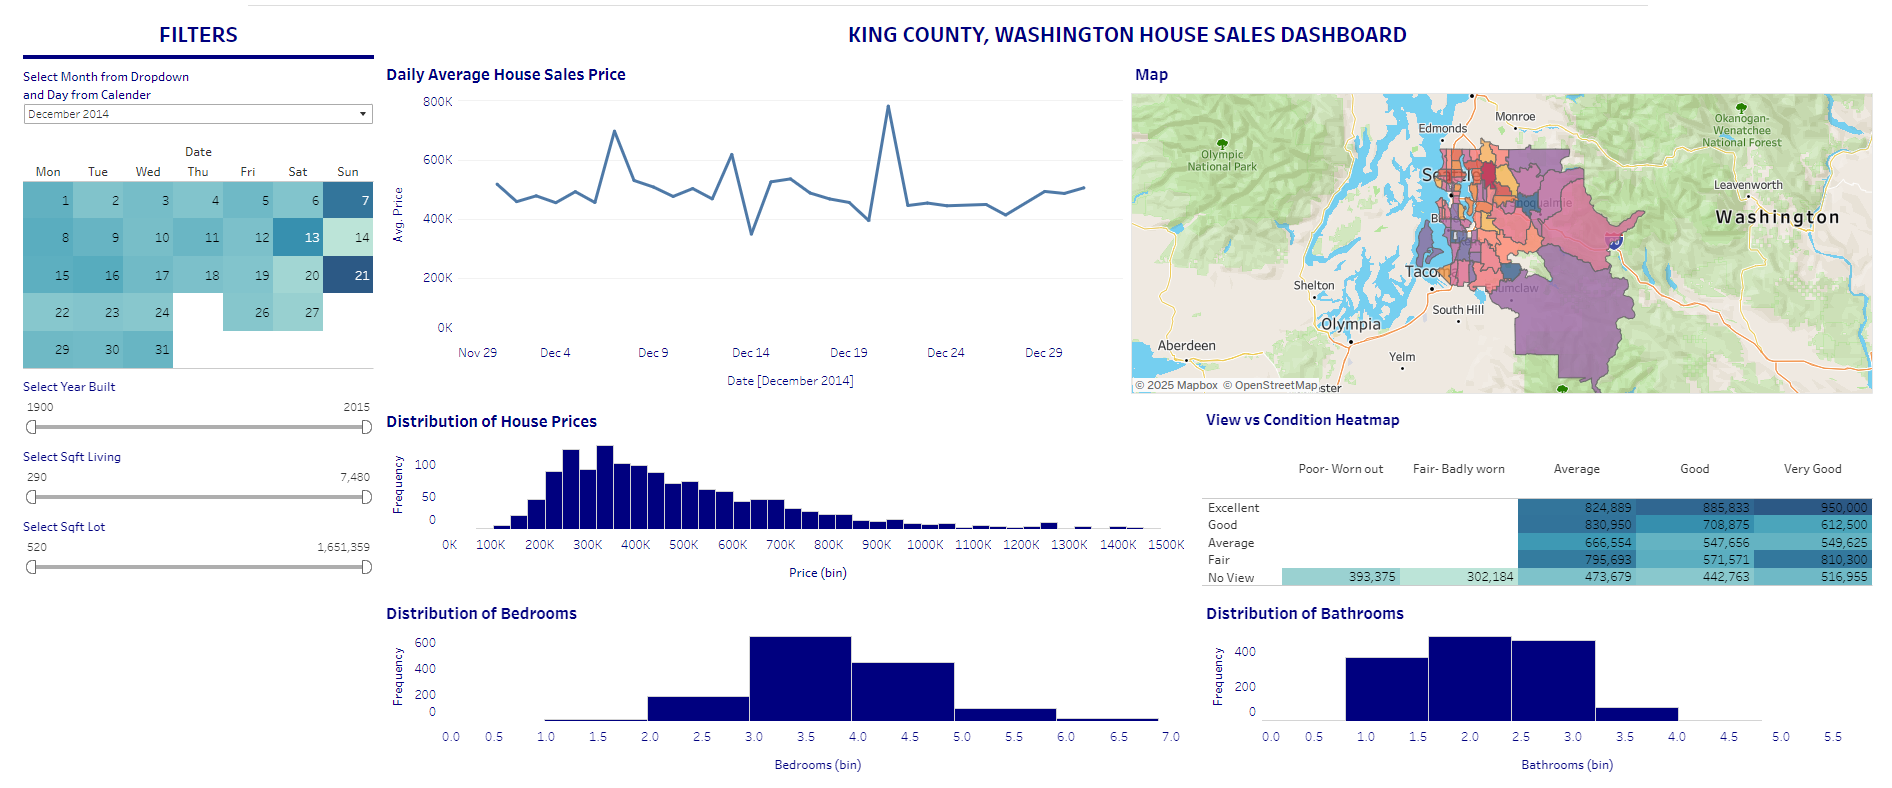

The page's visual inventory and layout, read from the dashboard file:
{"tool":"tableau","page":{"name":"KINGCOUNTYHOUSESALE","canvas":[1000,1000],"units":"permille","ordinal":0},"visuals":[{"type":"text","box":[4.8,9.7,191.3,54.6]},{"type":"text","box":[196.1,9.7,799.1,54.6]},{"type":"blank","box":[4.8,64.2,191.3,14.6]},{"type":"worksheet","title":"Line Chart","mark":"Automatic","rows":["price"],"cols":["date"],"box":[196.1,64.2,399.5,435.8]},{"type":"worksheet","title":"Map","mark":"Automatic","box":[595.6,64.2,399.5,435.8]},{"type":"filter","title":"Calender","param":"[federated.05pfzd511a616v11zv0wk0a0ebbt].[my:date:ok]","box":[4.8,78.8,191.3,93.3]},{"type":"worksheet","title":"Calender","mark":"Square","rows":["date"],"cols":["date"],"box":[4.8,172.1,191.3,286.1]},{"type":"filter","title":"Calender","param":"[federated.05pfzd511a616v11zv0wk0a0ebbt].[none:yr_built:qk]","box":[4.8,458.2,191.3,66.7]},{"type":"worksheet","title":"HistHousePrice","mark":"Automatic","rows":["price"],"cols":["Price (bin)"],"box":[196.1,500,436.9,245.1]},{"type":"worksheet","title":"HeatMap","mark":"Square","rows":["view"],"cols":["condition"],"box":[633.1,500,362.1,245.1]},{"type":"filter","title":"Calender","param":"[federated.05pfzd511a616v11zv0wk0a0ebbt].[none:sqft_living:qk]","box":[4.8,524.9,191.3,66.7]},{"type":"filter","title":"Calender","param":"[federated.05pfzd511a616v11zv0wk0a0ebbt].[none:sqft_lot:qk]","box":[4.8,591.5,191.3,66.7]},{"type":"worksheet","title":"HistBedroom","mark":"Automatic","rows":["bedrooms"],"cols":["Bedrooms (bin)"],"box":[196.1,745.1,436.9,245.2]},{"type":"worksheet","title":"HistBathroom","mark":"Automatic","rows":["bathrooms"],"cols":["Bathrooms (bin)"],"box":[633.1,745.1,362.1,245.2]}]}

Visuals, with their boxes on the dashboard's canvas, which has no fixed pixel size, in thousandths of its width and height (x1, y1, x2, y2). These are canvas units, not pixel positions in the 1892x788 screenshot, which may show the page scaled, cropped or inside an application window:
text: l=5, t=10, r=196, b=64
text: l=196, t=10, r=995, b=64
blank: l=5, t=64, r=196, b=79
"Line Chart" worksheet: l=196, t=64, r=596, b=500
"Map" worksheet: l=596, t=64, r=995, b=500
"Calender" filter: l=5, t=79, r=196, b=172
"Calender" worksheet (Square marks): l=5, t=172, r=196, b=458
"Calender" filter: l=5, t=458, r=196, b=525
"HistHousePrice" worksheet: l=196, t=500, r=633, b=745
"HeatMap" worksheet (Square marks): l=633, t=500, r=995, b=745
"Calender" filter: l=5, t=525, r=196, b=592
"Calender" filter: l=5, t=592, r=196, b=658
"HistBedroom" worksheet: l=196, t=745, r=633, b=990
"HistBathroom" worksheet: l=633, t=745, r=995, b=990
